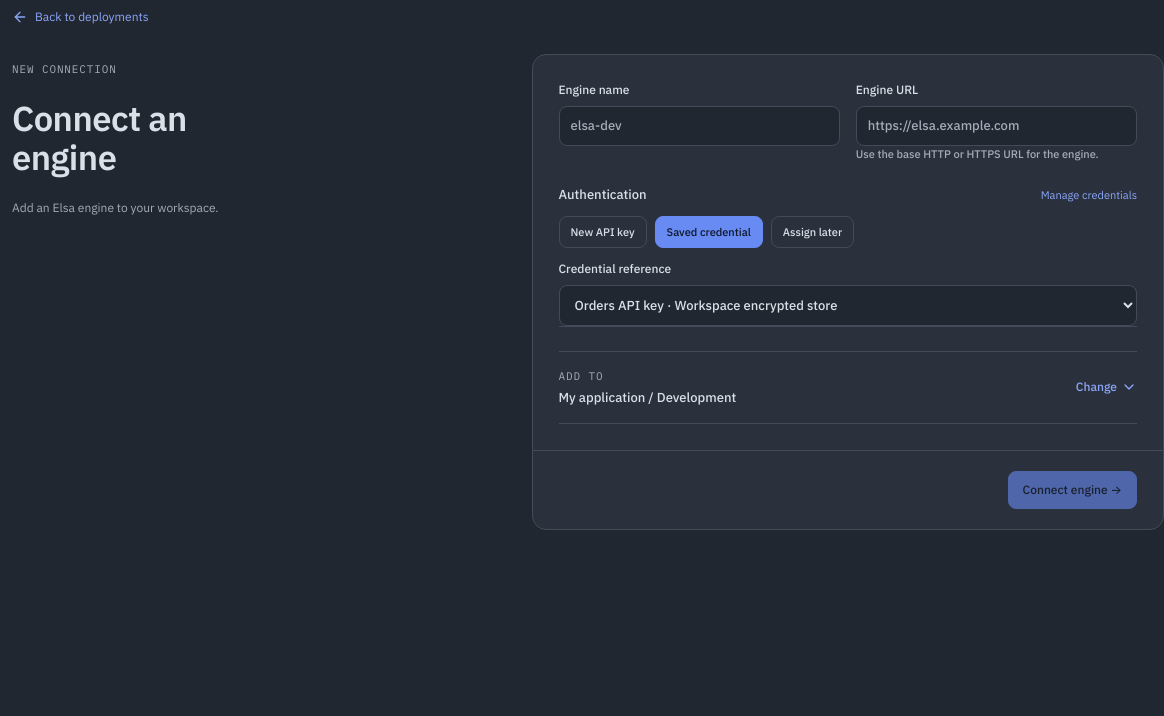
Test: ConnectEnginePage › prefers the workspace default tier over the legacy Dev name
Check: the heading "Connect an engine" is shown, box [12,96,187,180]
Click the button "Change" at (1106, 387), box [1076,374,1137,400]
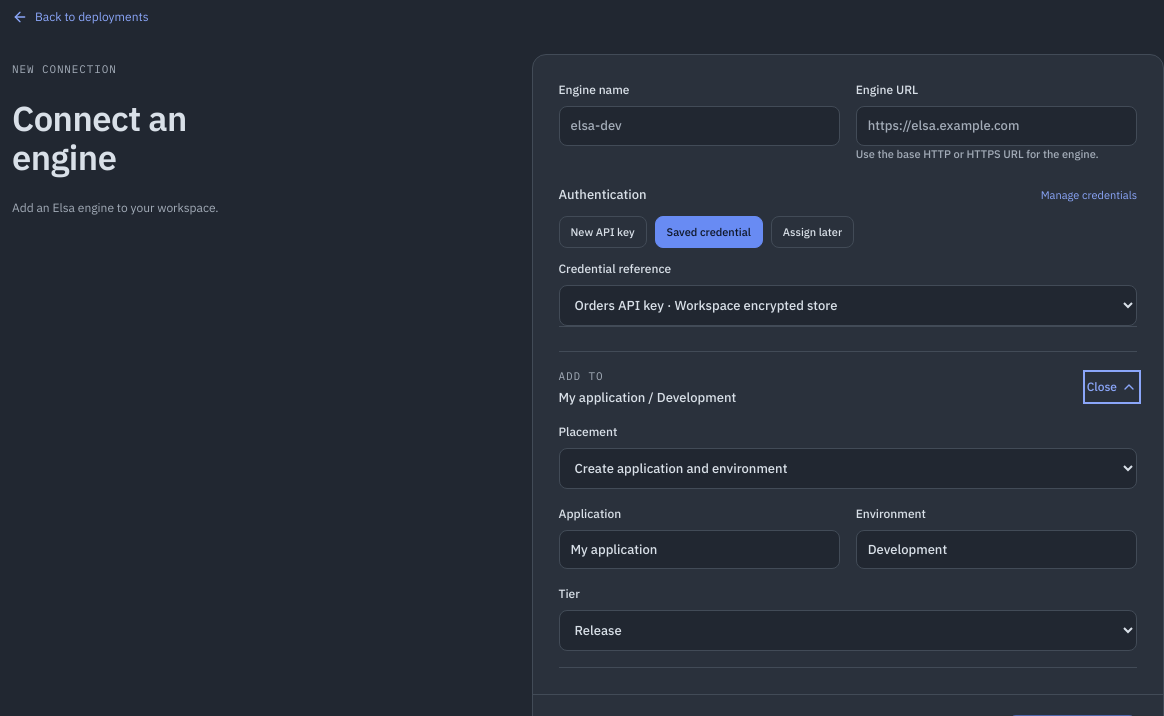
Check: the dropdown named "Environment tier" shows "Release", box [558,610,1137,651]
